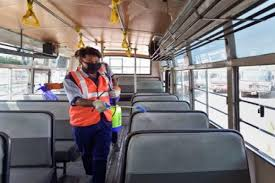mask: (79, 51, 100, 72)
